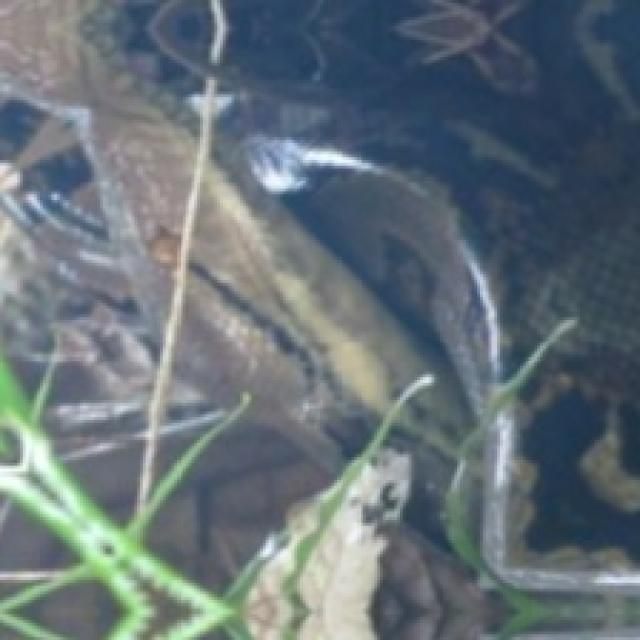reticulated python: (151, 0, 637, 637), (0, 0, 209, 517)
